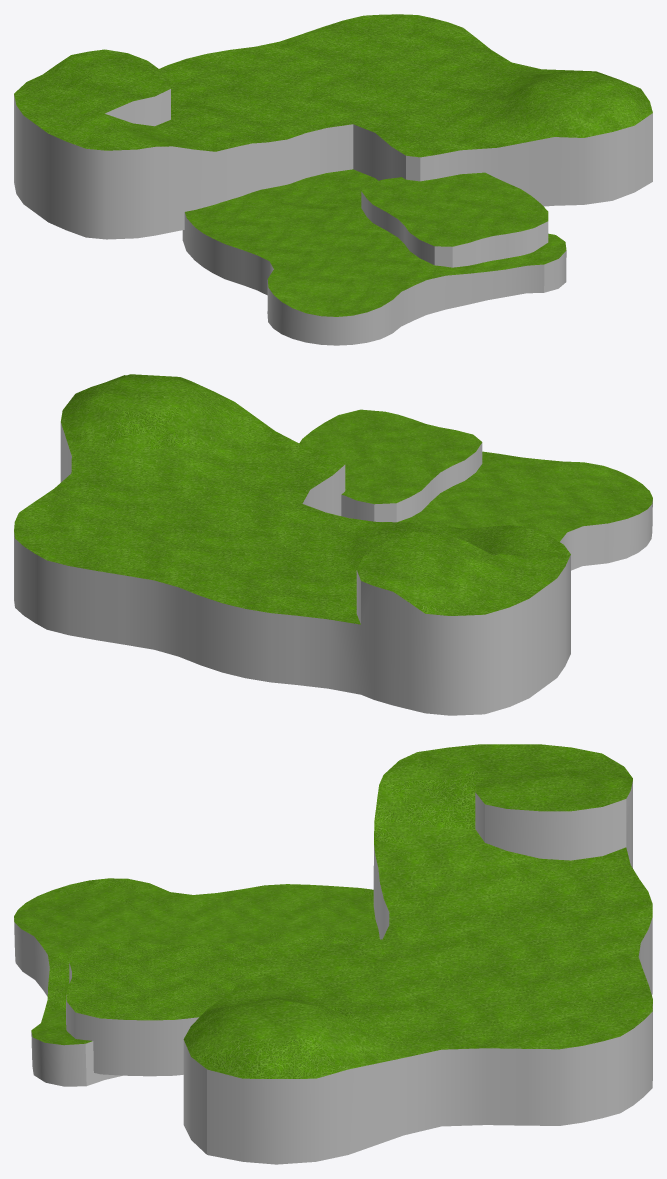
File: SM_world_2_01.fbx
The picture shows the model from 3 angles, top to bottom: view 1: azimuth 30°, elevation 25°; view 2: azimuth 150°, elevation 25°; view 3: azimuth 270°, elevation 25°; orthographic projection. The views are drawn at different scales.
Visible parts, largest first — view 1: Lower Ground; view 2: Lower Ground; view 3: Lower Ground.
Part boxes in pixels (<box>): Lower Ground: <box>14,14,652,345</box>; Lower Ground: <box>14,374,652,715</box>; Lower Ground: <box>14,744,652,1164</box>.
Bounding box in the file's own units: 18226 × 15881 × 4027.
